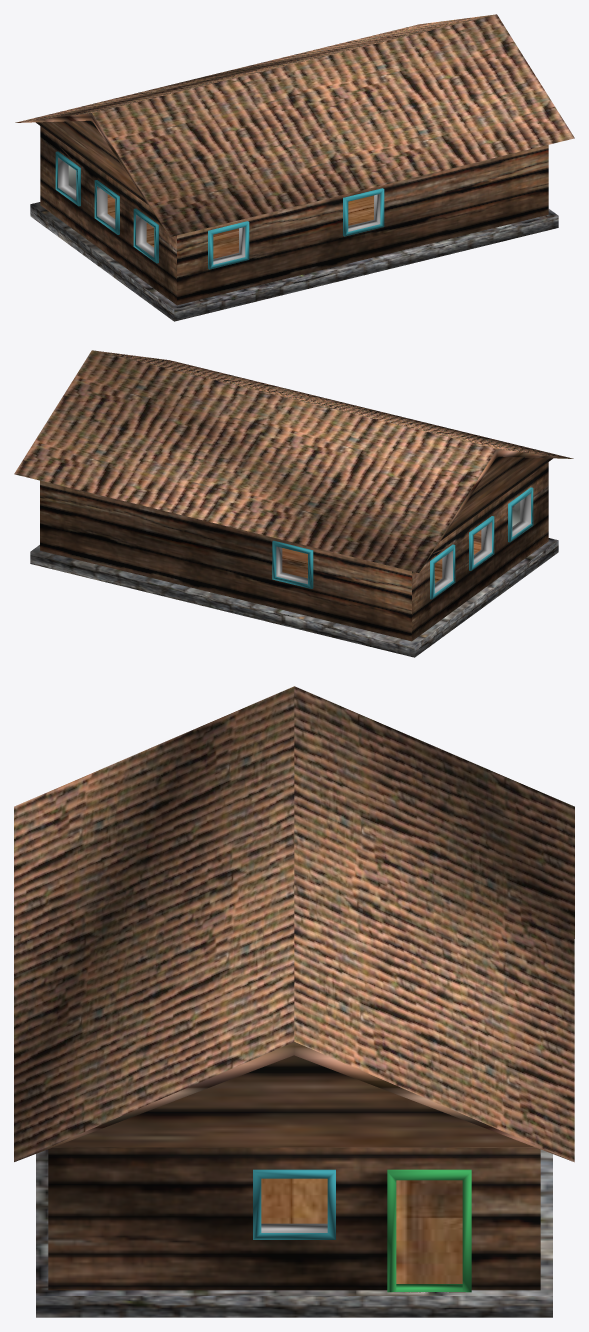
3 views of the same model, one above another, from view 1: azimuth 30°, elevation 25°; view 2: azimuth 150°, elevation 25°; view 3: azimuth 270°, elevation 25° (orthographic). The views are drawn at different scales.
Parts seen in each view (by area): view 1: 0roof_Cube.002, 0frontwall_Cube.002, 0base_Cube.002, 0floor_Plane.002; view 2: 0roof_Cube.002, 0frontwall_Cube.002, 0base_Cube.002, 0floor_Plane.002; view 3: 0roof_Cube.002, 0frontwall_Cube.002, 0base_Cube.002, 0floor_Plane.002.
Boxes of the visible parts, bbox=[...] form: 0roof_Cube.002: bbox=[15, 14, 574, 236]; 0frontwall_Cube.002: bbox=[40, 126, 548, 305]; 0base_Cube.002: bbox=[30, 202, 558, 321]; 0floor_Plane.002: bbox=[107, 194, 373, 258]; 0roof_Cube.002: bbox=[14, 350, 573, 572]; 0frontwall_Cube.002: bbox=[40, 462, 548, 641]; 0base_Cube.002: bbox=[30, 538, 558, 657]; 0floor_Plane.002: bbox=[282, 530, 481, 583]; 0roof_Cube.002: bbox=[14, 686, 574, 1162]; 0frontwall_Cube.002: bbox=[48, 1147, 540, 1292]; 0base_Cube.002: bbox=[36, 1149, 552, 1317]; 0floor_Plane.002: bbox=[261, 1178, 462, 1283].
Size of the model in its own units: 12 by 4.48 by 8.
